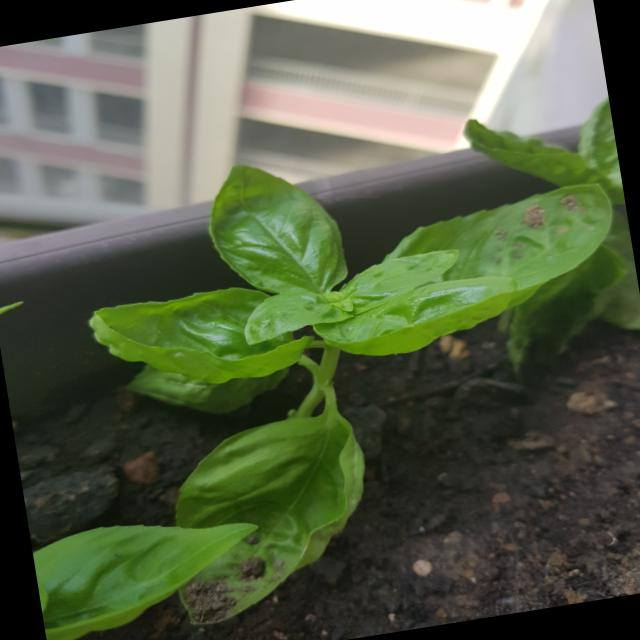Sweet Basil: (41, 103, 640, 640)
